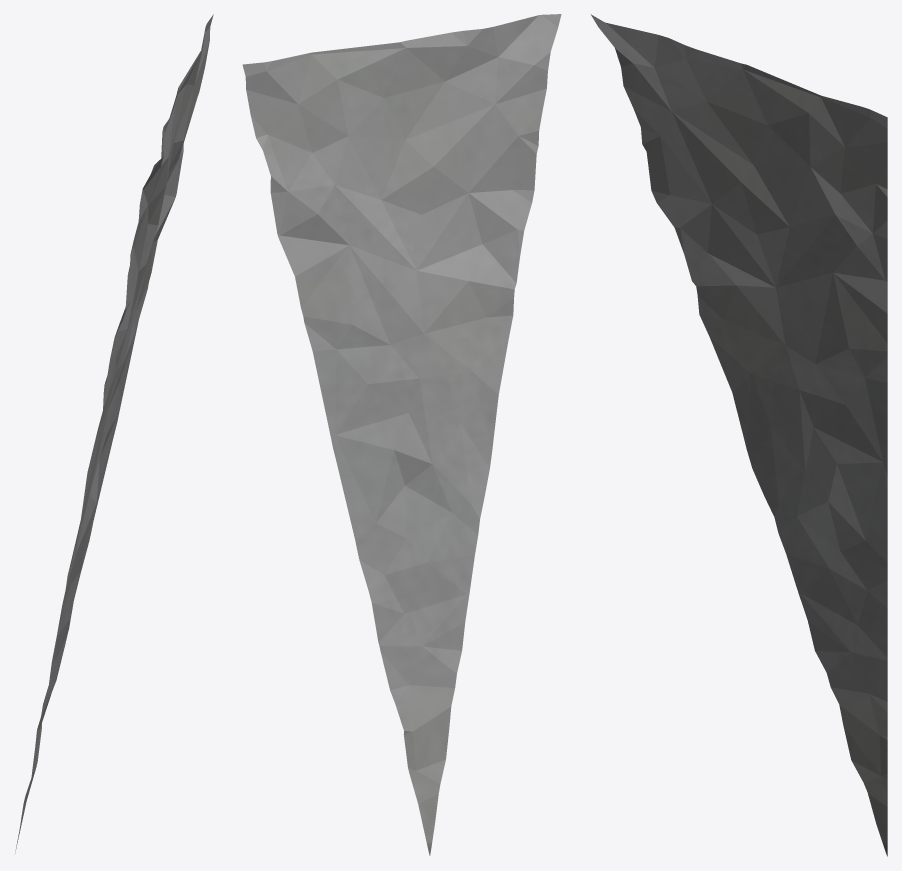
3 views of the same model, side by side, from view 1: azimuth 30°, elevation 25°; view 2: azimuth 150°, elevation 25°; view 3: azimuth 270°, elevation 25° (orthographic). The views are drawn at different scales.
Size of the model in its own units: 0.1598 by 0.608 by 0.1942.
Materials: 1 (1 with a texture image).
